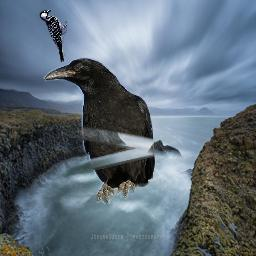Crow: (43, 57, 157, 204)
Woodpecker: (39, 8, 67, 62)
